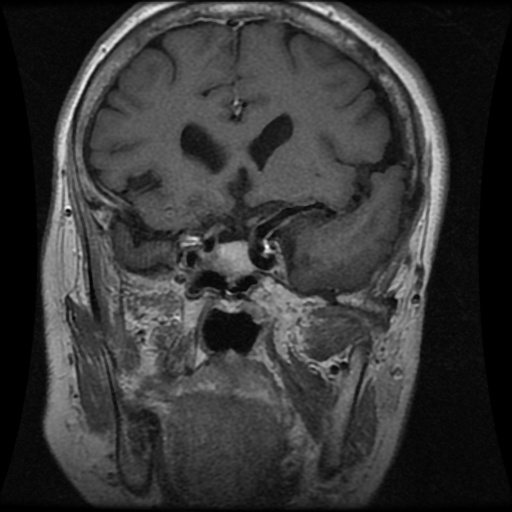pituitary: (195, 240, 257, 286)
